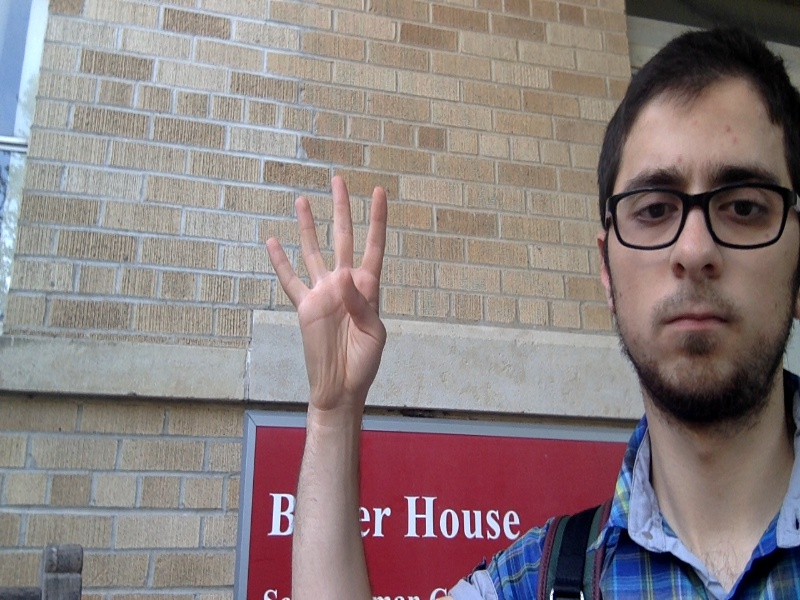4-hand: (263, 176, 392, 422)
